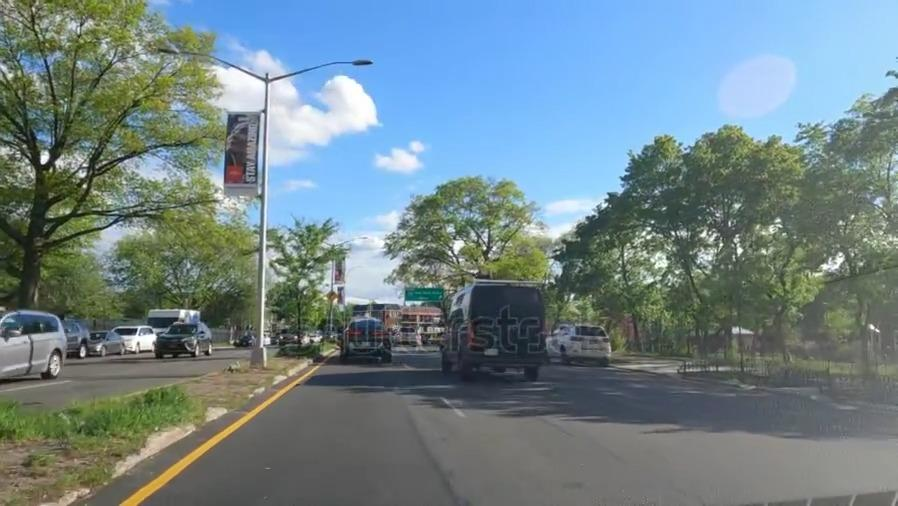car: (0, 312, 71, 367), (553, 323, 619, 362), (344, 315, 393, 358), (161, 321, 215, 357), (127, 325, 157, 354), (94, 329, 126, 356), (65, 321, 92, 351)
van: (435, 283, 546, 376)
wheel: (46, 348, 65, 380)
